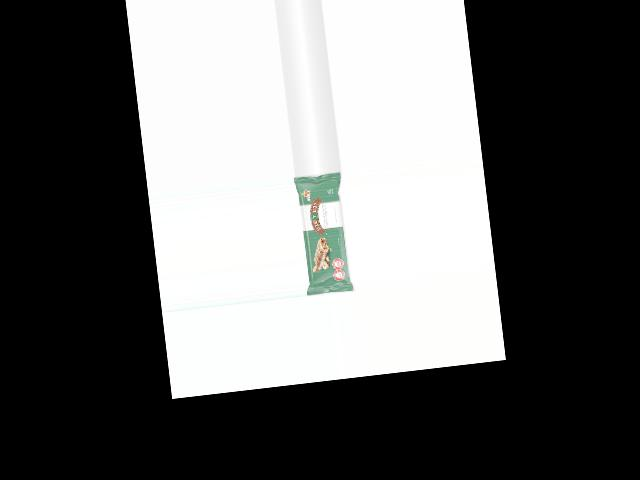chocolate: (293, 170, 356, 296)
